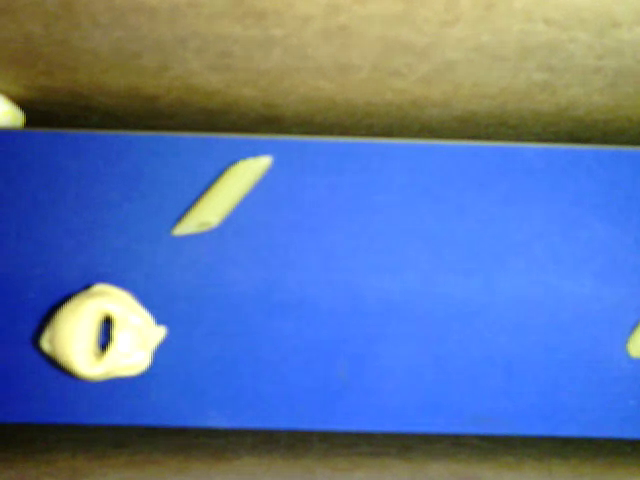penne: (171, 155, 273, 236)
tortellini: (39, 282, 168, 383)
